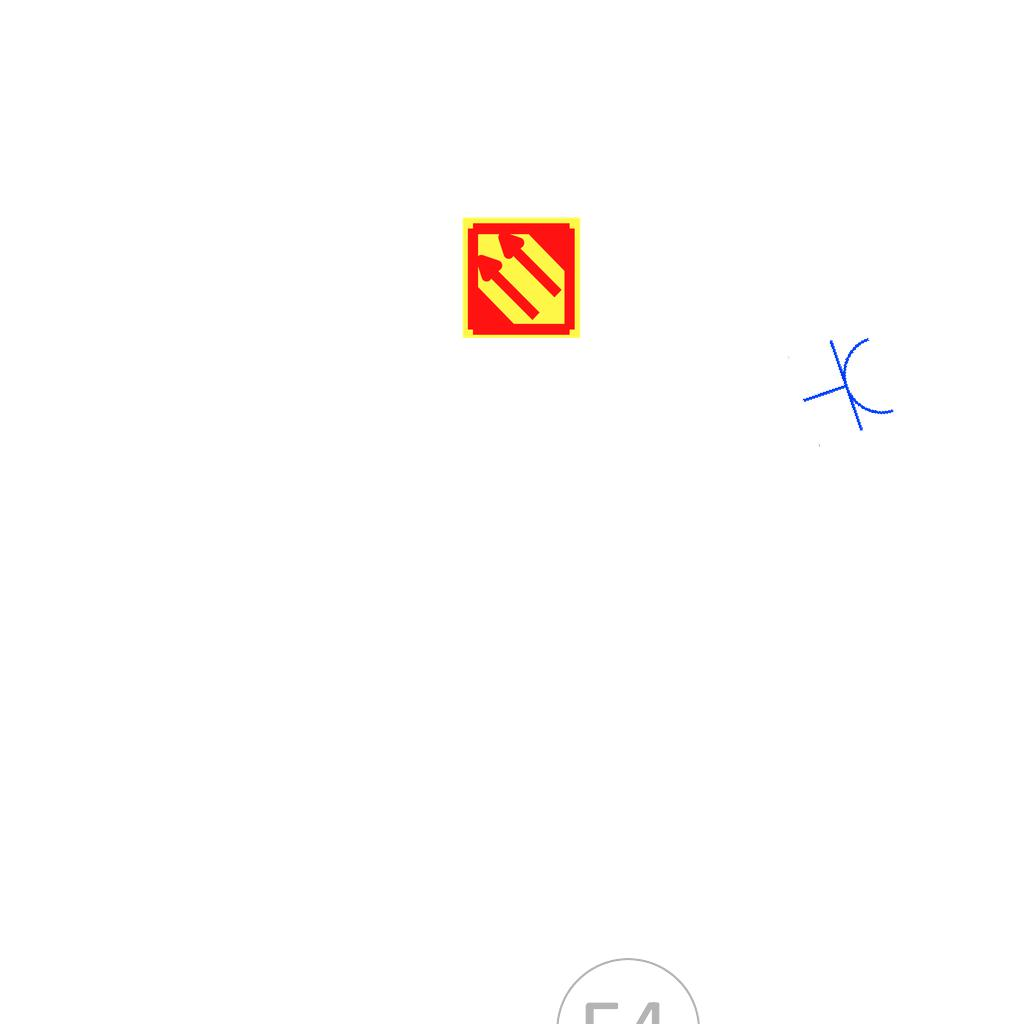ASR_Ansaugrauchmelder: (459, 215, 584, 340)
Schukosteckdose_einfach: (786, 326, 902, 449)
